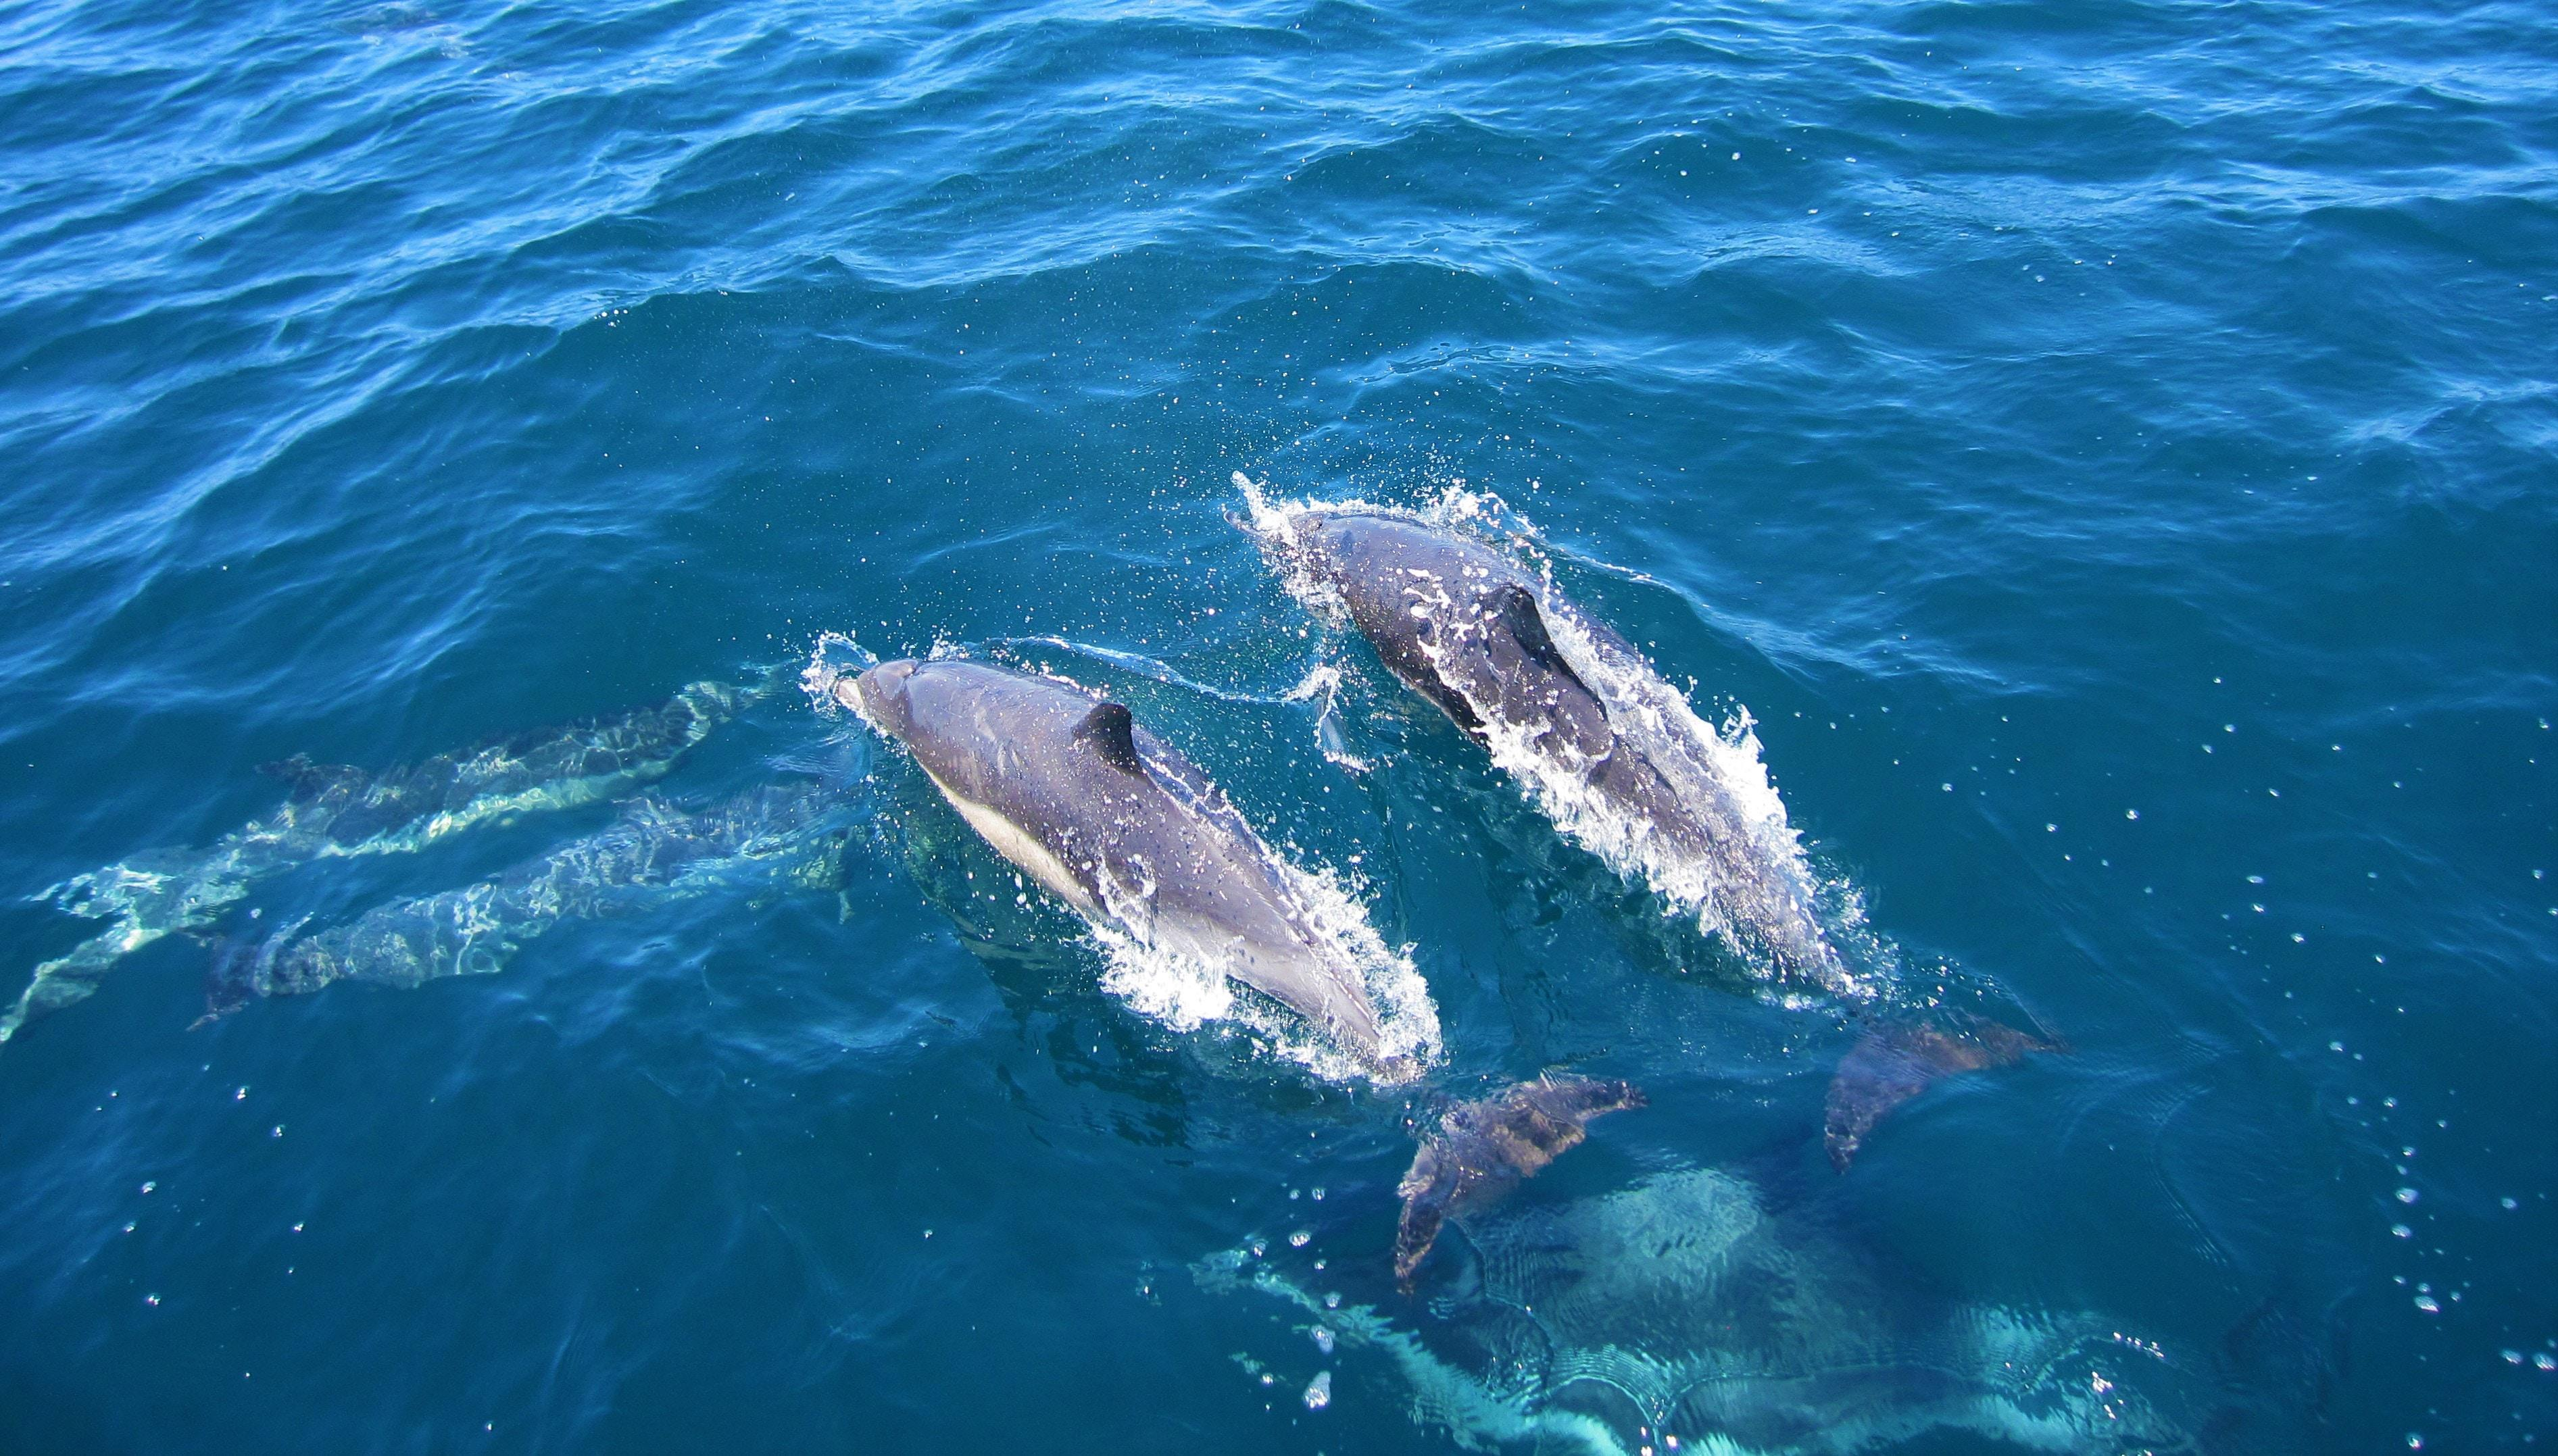fish: (1260, 462, 2047, 1145), (815, 629, 1630, 1266)
